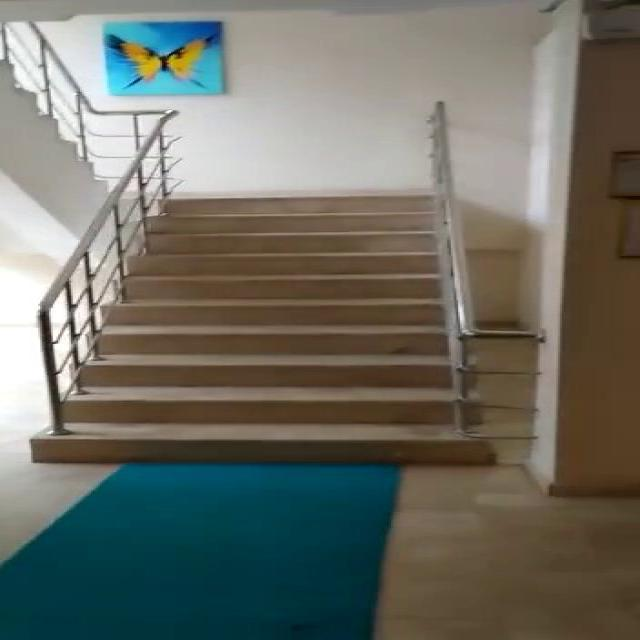stair: (28, 191, 508, 472)
